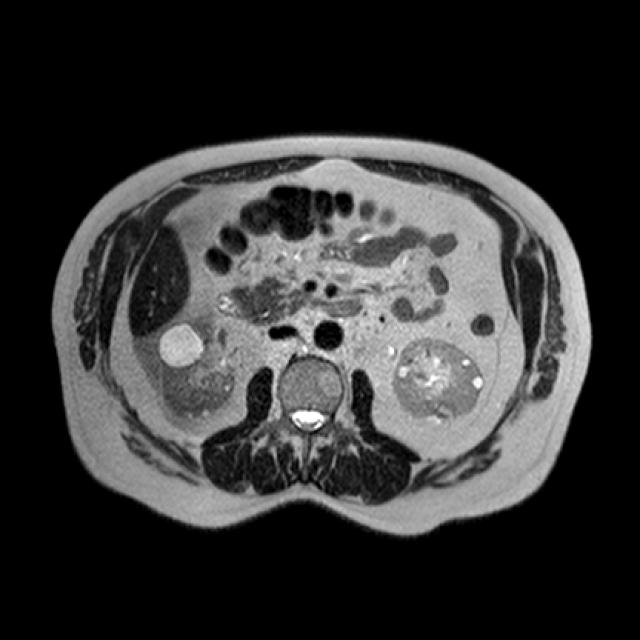sag: (161, 316, 236, 416)
sol: (398, 338, 484, 416)
